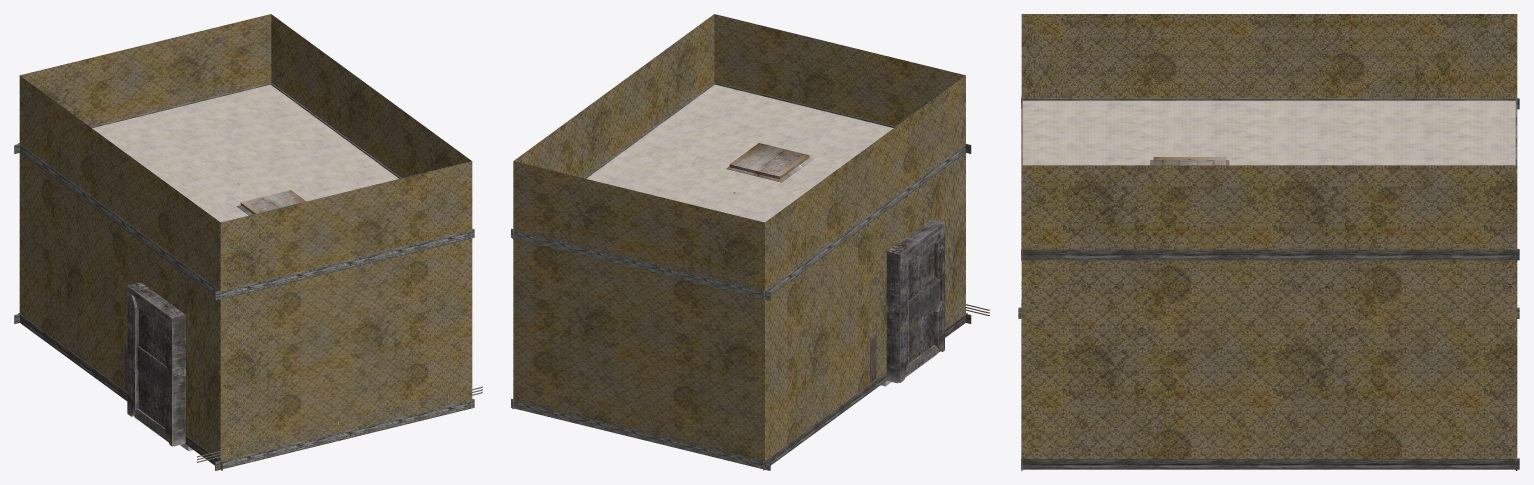
Rendered from level01_08_officesave01.dae.
The picture shows the model from 3 angles, left to right: view 1: azimuth 30°, elevation 25°; view 2: azimuth 150°, elevation 25°; view 3: azimuth 270°, elevation 25°; orthographic projection. The views are drawn at different scales.
Parts seen in each view (by area): view 1: polySurface20, polySurface18, polySurface24, polySurface19, polySurface23, polySurface21, polySurface22, frame, door1, list7_nocollide_noshadow, list3_nocollide_noshadow, list8_nocollide_noshadow (+3 smaller); view 2: polySurface19, polySurface18, polySurface24, polySurface20, polySurface23, polySurface21, frame, polySurface22, door1, list1_nocollide_noshadow, list6_nocollide_noshadow, list8_nocollide_noshadow (+3 smaller); view 3: polySurface21, polySurface23, polySurface18, polySurface24, list5_nocollide_noshadow, list_nocollide_noshadow, polySurface22, list8_nocollide_noshadow, _area_script_vent1.
Part boxes in pixels (x1,y1,x2,y2): polySurface20: [220, 161, 472, 460]; polySurface18: [92, 84, 398, 222]; polySurface24: [19, 76, 138, 392]; polySurface19: [20, 14, 271, 126]; polySurface23: [20, 76, 220, 313]; polySurface21: [271, 14, 471, 177]; polySurface22: [184, 223, 220, 460]; frame: [127, 282, 185, 446]; door1: [134, 297, 169, 440]; list7_nocollide_noshadow: [215, 229, 474, 300]; list3_nocollide_noshadow: [215, 399, 474, 470]; list8_nocollide_noshadow: [18, 143, 221, 299]; polySurface19: [513, 161, 764, 460]; polySurface18: [586, 84, 893, 222]; polySurface24: [765, 222, 886, 460]; polySurface20: [714, 14, 965, 126]; polySurface23: [765, 75, 965, 255]; polySurface21: [513, 14, 714, 178]; frame: [886, 219, 944, 382]; polySurface22: [930, 76, 965, 328]; door1: [905, 232, 940, 376]; list1_nocollide_noshadow: [511, 399, 770, 470]; list6_nocollide_noshadow: [511, 229, 770, 300]; list8_nocollide_noshadow: [763, 144, 965, 300]; polySurface21: [1021, 165, 1517, 458]; polySurface23: [1022, 14, 1516, 98]; polySurface18: [1022, 100, 1515, 165]; polySurface24: [1350, 14, 1517, 98]; list5_nocollide_noshadow: [1021, 249, 1519, 260]; list_nocollide_noshadow: [1021, 458, 1519, 469]; polySurface22: [1021, 14, 1072, 98]; list8_nocollide_noshadow: [1021, 98, 1519, 109]; _area_script_vent1: [1153, 157, 1225, 165].
Size of what is drawn, in the model's own units: 5.13 by 4.53 by 6.31.
